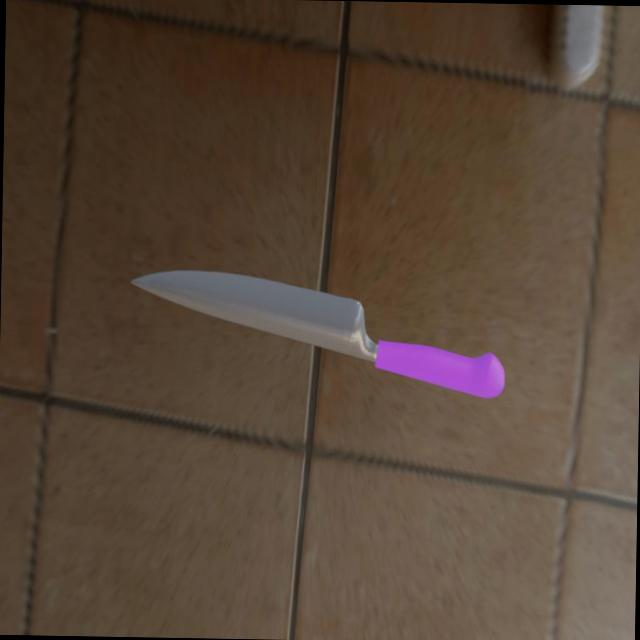knife: (373, 340, 506, 398)
